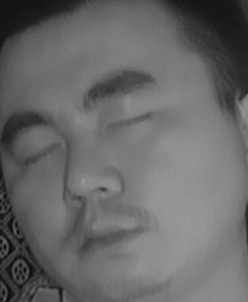blink: (103, 103, 154, 140), (18, 136, 59, 171)
mouth: (59, 207, 151, 265)
